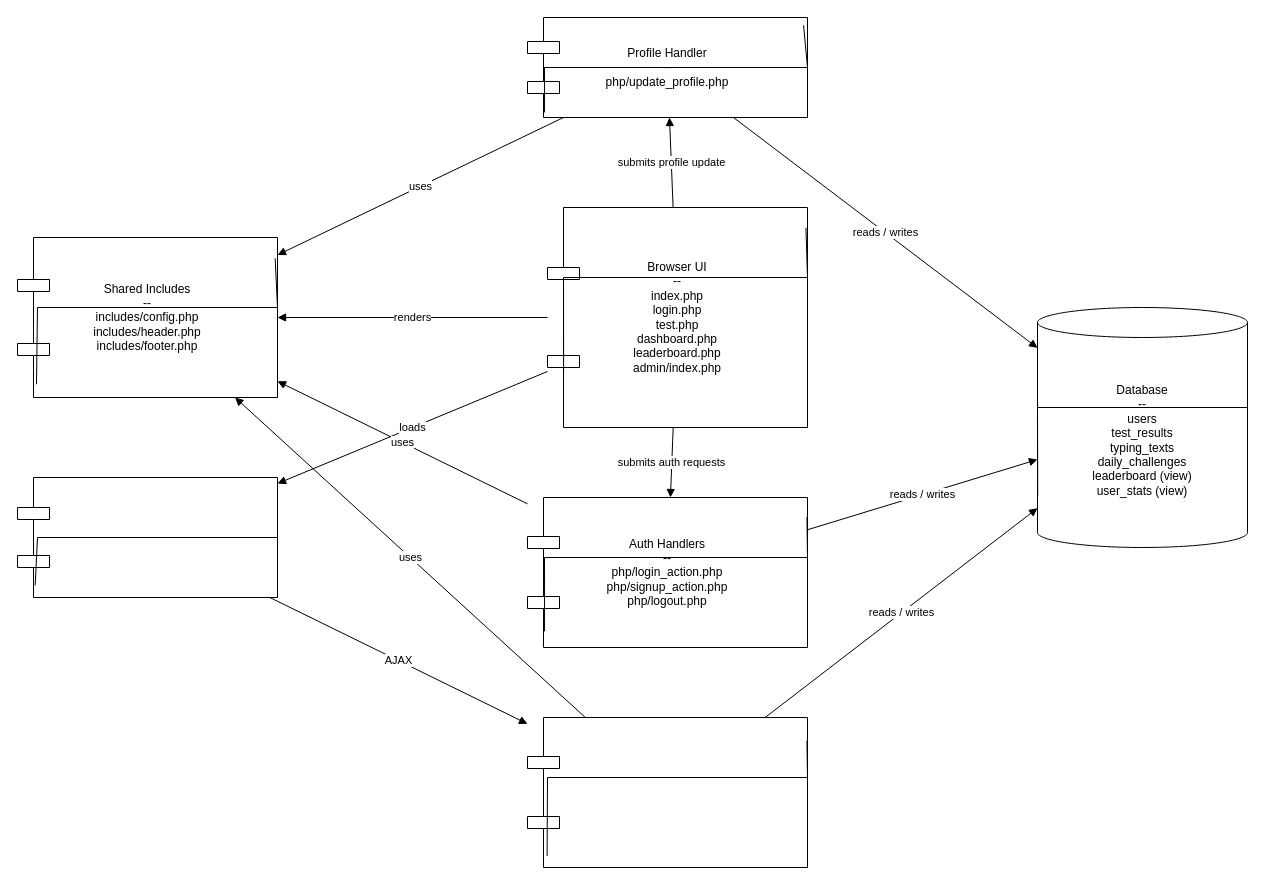
This 1266x885 diagram has some shape labels left out. The centre of each missing label's shape, as x and y in pixels:
"Client Scripts -- js/main.js js/test.js" goes at point 147,537.
"Test Handlers -- php/save_result.php php/get_history.php php/clear_history.php" goes at point 667,792.
